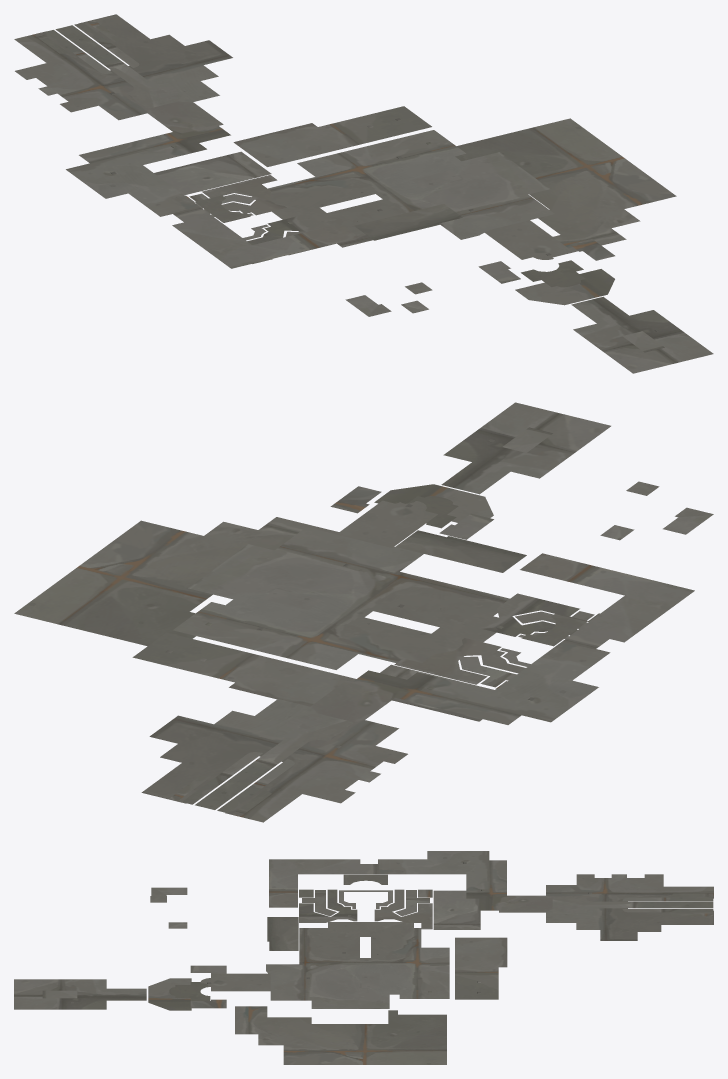
Rendered from sc_moshenta_terrain_001.FBX.
The picture shows the model from 3 angles, top to bottom: view 1: azimuth 30°, elevation 25°; view 2: azimuth 150°, elevation 25°; view 3: azimuth 270°, elevation 25°; orthographic projection. The views are drawn at different scales.
Visible parts, largest first — view 1: sc_moshenta_terrain_001; view 2: sc_moshenta_terrain_001; view 3: sc_moshenta_terrain_001.
Boxes of the visible parts, x1,y1,x2,y2 form: sc_moshenta_terrain_001: (14,14,713,373); sc_moshenta_terrain_001: (14,402,713,822); sc_moshenta_terrain_001: (14,851,713,1064).
Size of the model in its own units: 162 by 16.21 by 267.
